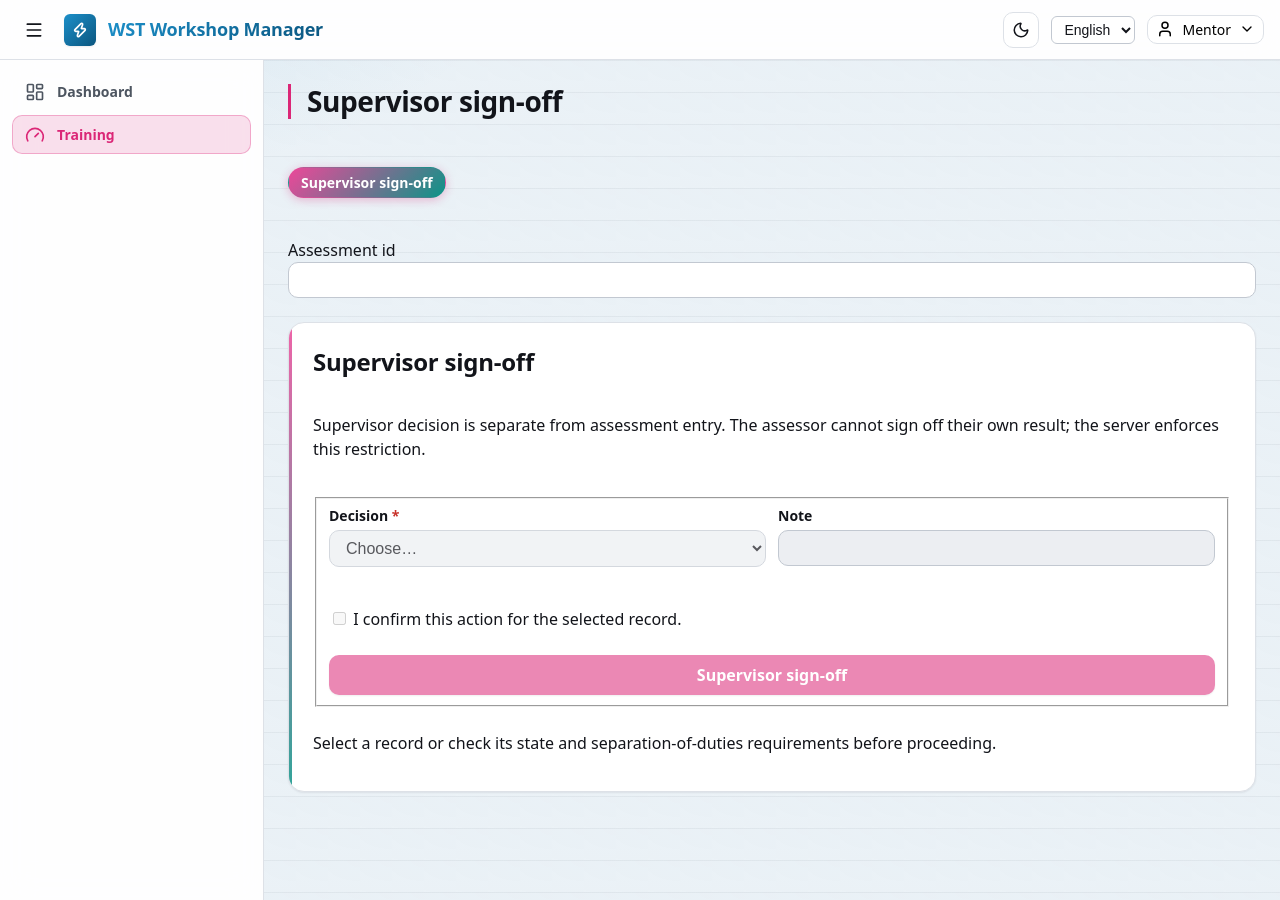
Test: assessment entry and supervisor separation › uses the sign-off endpoint and surfaces server separation-of-duties rejection
This screenshot has width=1280, height=900.
Type "assessment-1" into the field labelled "Assessment id" at (772,280), box [288, 262, 1256, 298]
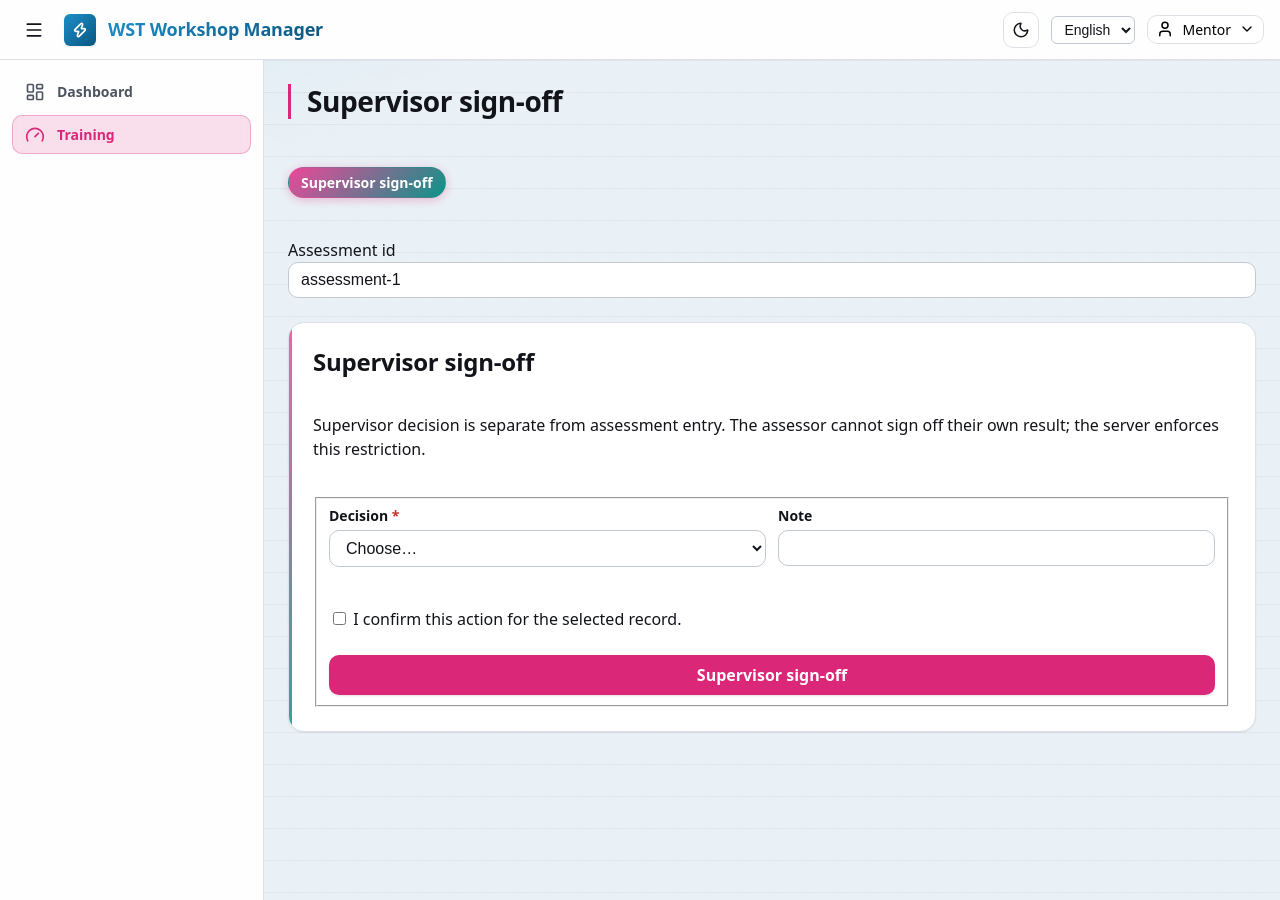
Select "Signed off" in the dropdown labelled "Decision *" at (548,548), box [329, 530, 766, 567]
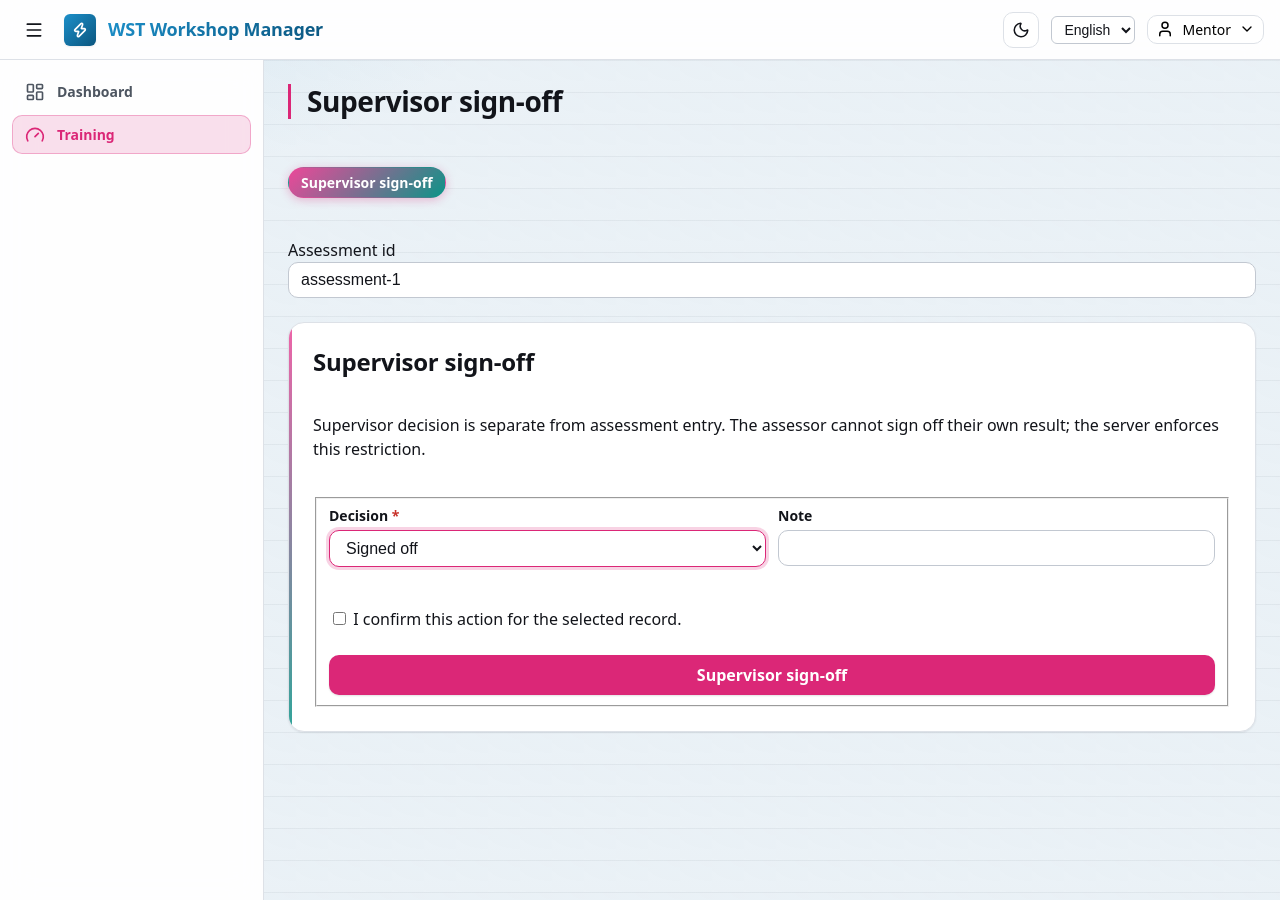
Click the checkbox at (340,618), box [333, 612, 346, 625]
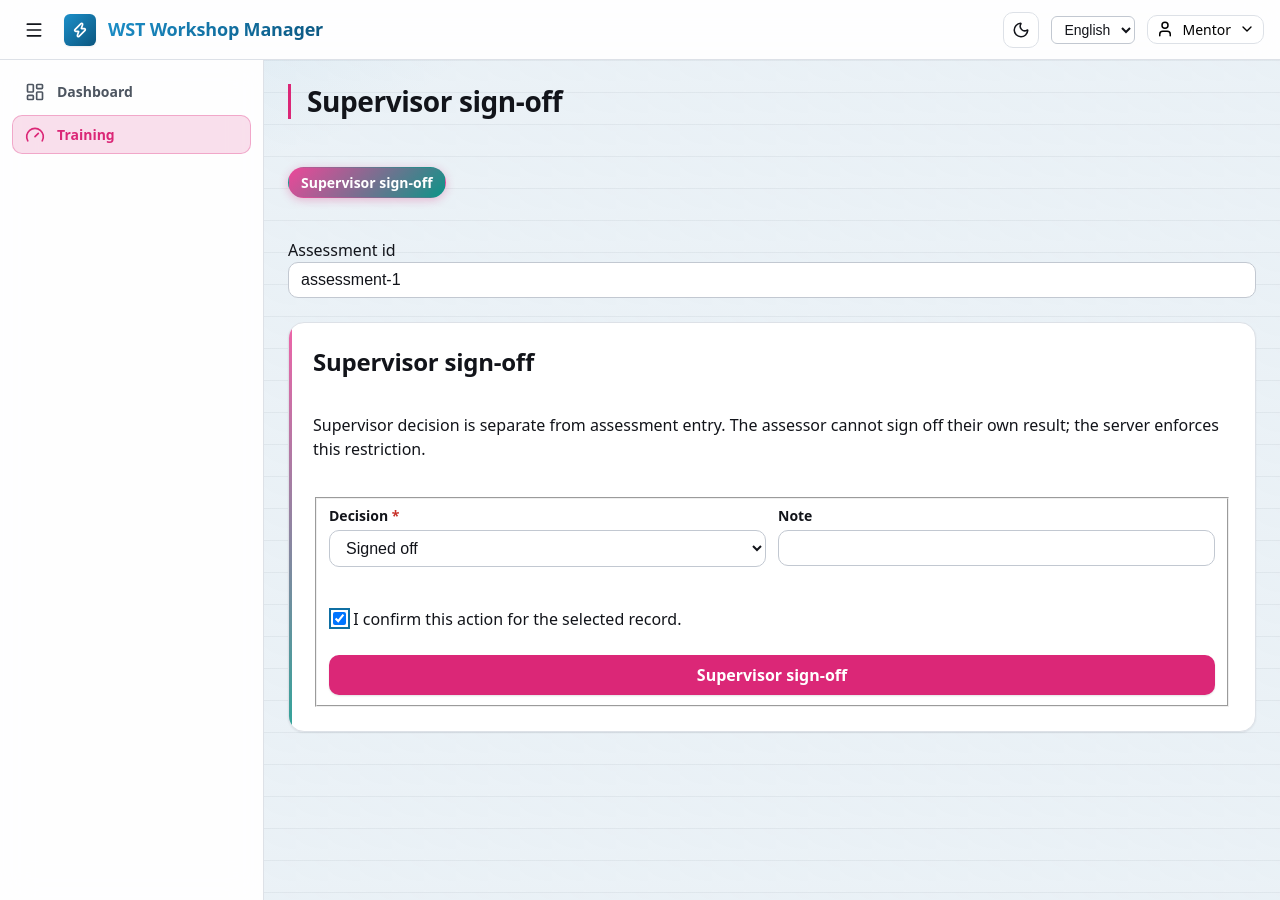
Click the button "Supervisor sign-off" at (772,675), box [329, 655, 1215, 695]
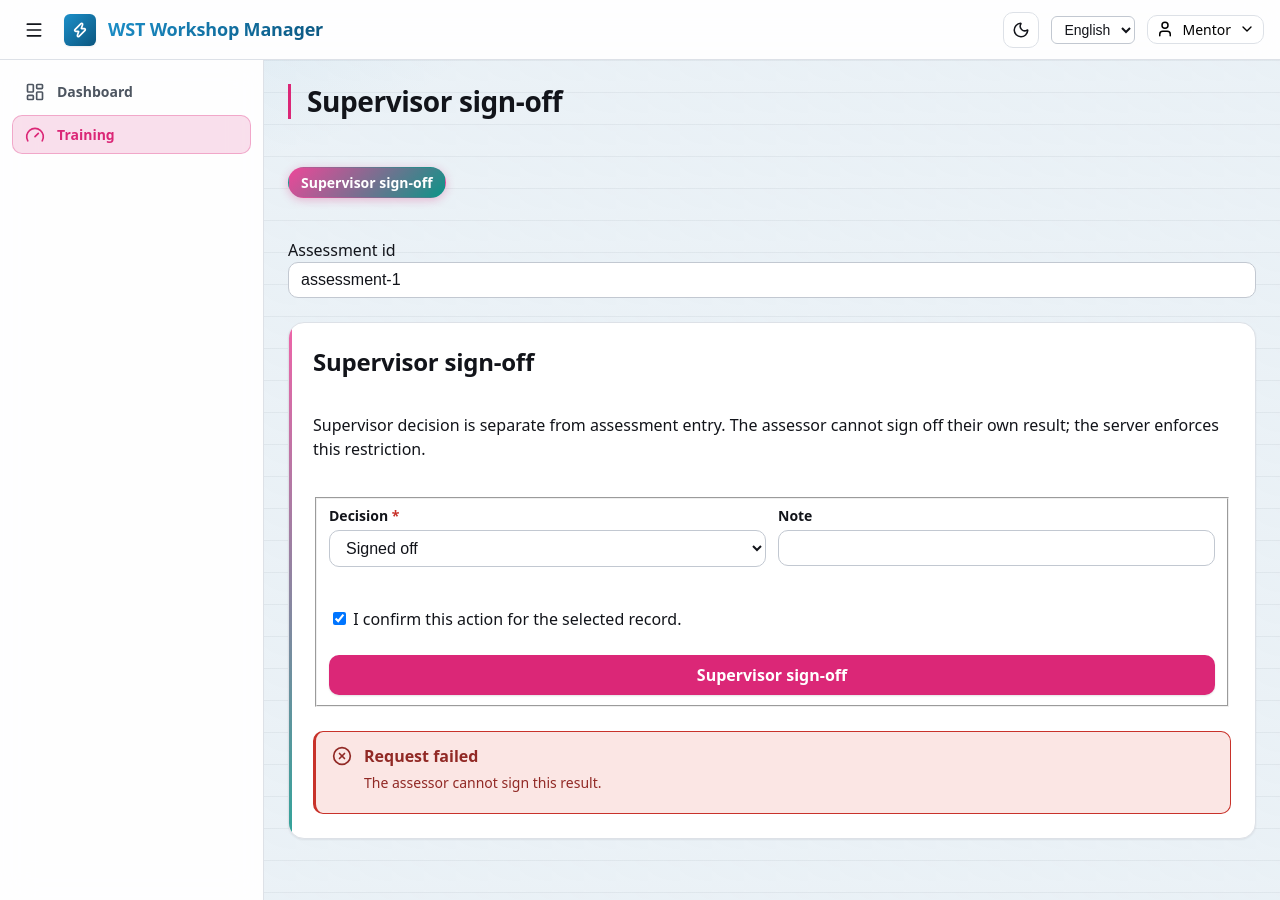
Result: the text "The assessor cannot sign this result." is shown at [364, 772, 602, 793]
